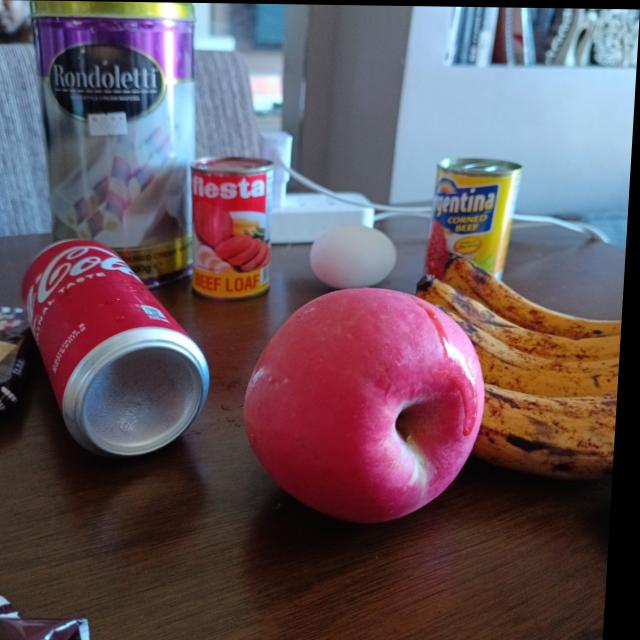apple: (247, 288, 493, 516)
coke: (18, 239, 218, 454)
egg: (313, 223, 402, 284)
